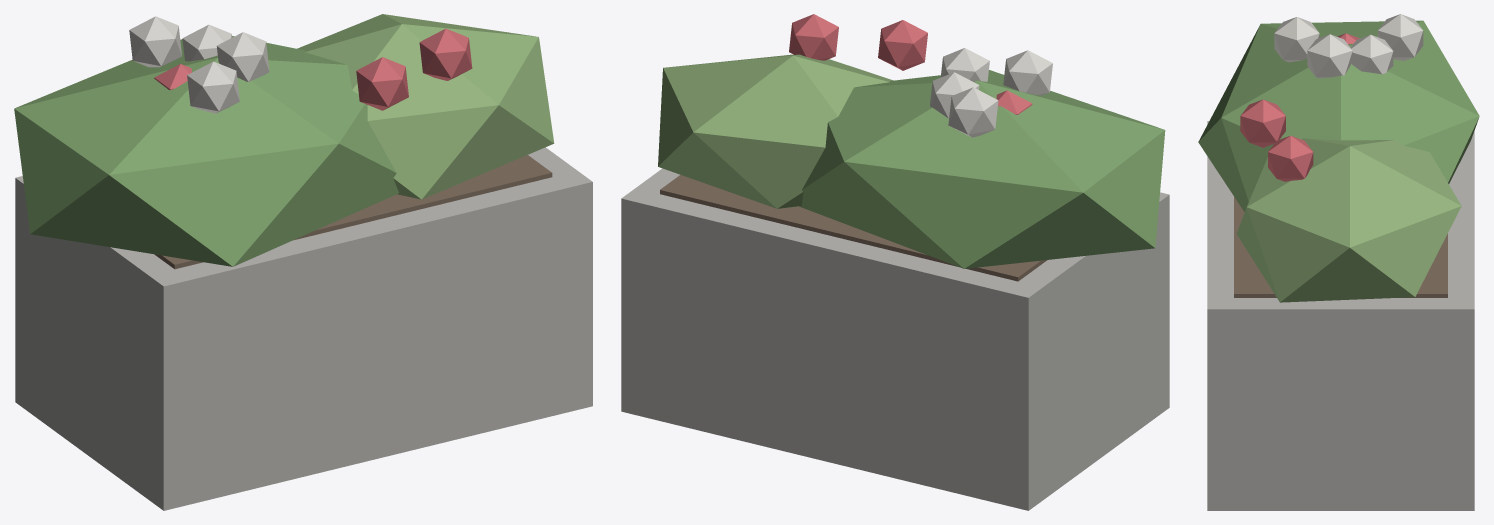
Rendered from planter.glb.
3 renders of one model, left to right at view 1: azimuth 30°, elevation 25°; view 2: azimuth 150°, elevation 25°; view 3: azimuth 270°, elevation 25°, orthographic. The views are drawn at different scales.
Parts seen in each view (by area): view 1: planter; view 2: planter; view 3: planter.
Boxes of the visible parts, left/top/right/bottom form: planter: left=14, top=14, right=592, bottom=510; planter: left=621, top=14, right=1169, bottom=510; planter: left=1198, top=14, right=1479, bottom=510.
Size of the model in its own units: 1.2 by 0.8754 by 0.632.
